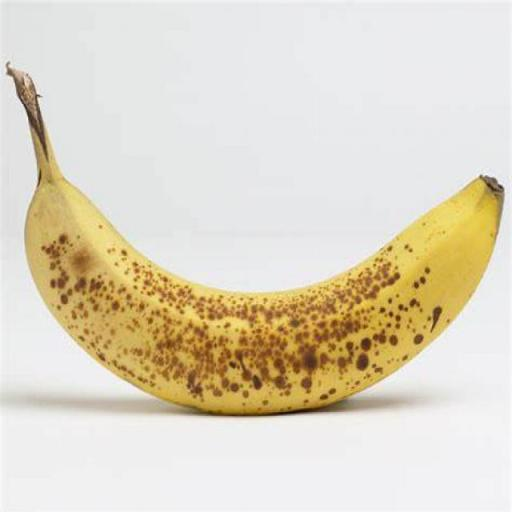fruit: (8, 66, 503, 414)
